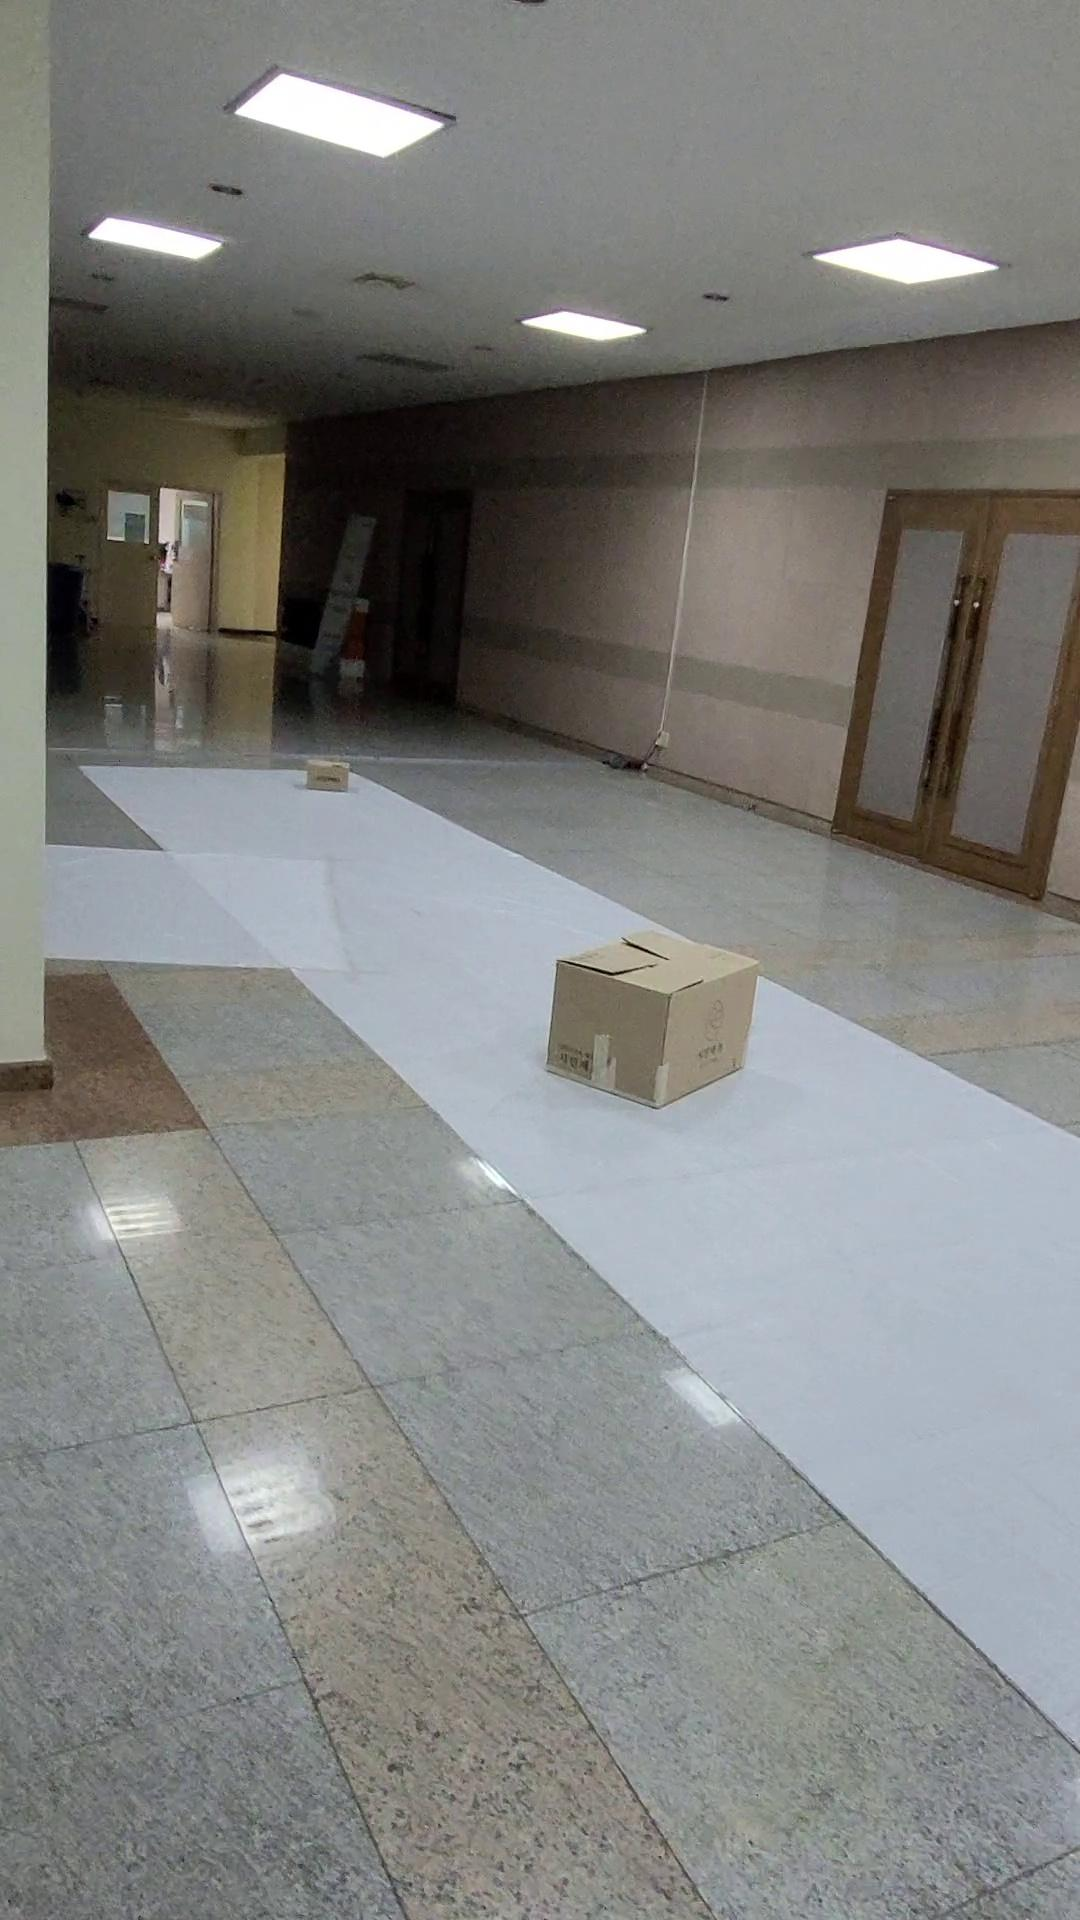Box: (518, 901, 782, 1153), (256, 717, 378, 823)
